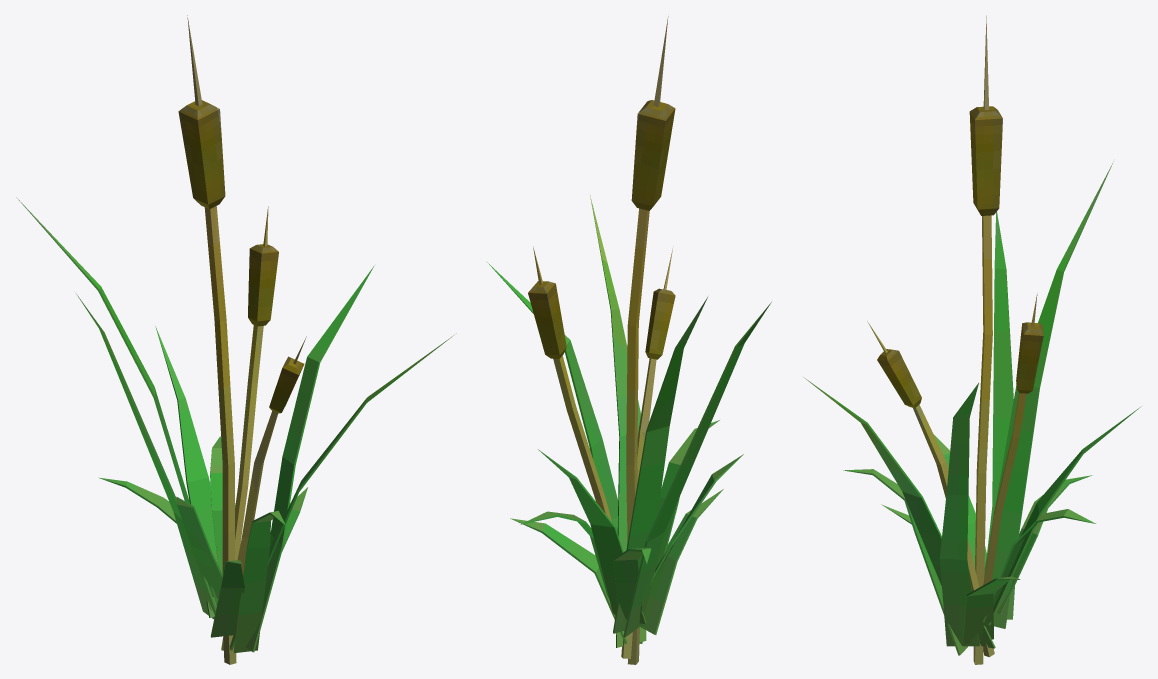
Rendered from cozy_cattail_1 Textured.fbx.
3 views of the same model, side by side, from view 1: azimuth 30°, elevation 25°; view 2: azimuth 150°, elevation 25°; view 3: azimuth 270°, elevation 25° (orthographic). The views are drawn at different scales.
Parts seen in each view (by area): view 1: Plane, Cube, Cube_001; view 2: Plane, Cube, Cube_001; view 3: Plane, Cube, Cube_001.
Boxes of the visible parts, x1,y1,x2,y2 form: Plane: (16, 197, 456, 653); Cube: (187, 15, 306, 664); Cube_001: (178, 100, 304, 413); Plane: (486, 195, 771, 647); Cube: (533, 16, 672, 664); Cube_001: (528, 100, 675, 359); Plane: (803, 161, 1141, 655); Cube: (867, 15, 1037, 664); Cube_001: (877, 106, 1043, 407).
Size of the model in its own units: 167 by 358 by 176.
1 material, 1 textured.
